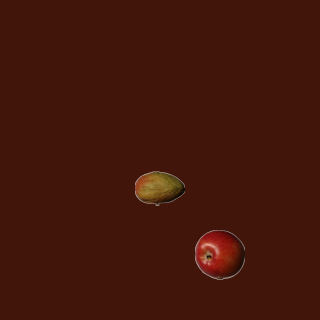Apple Braeburn: (194, 229, 244, 279)
Papaya: (134, 163, 184, 213)
